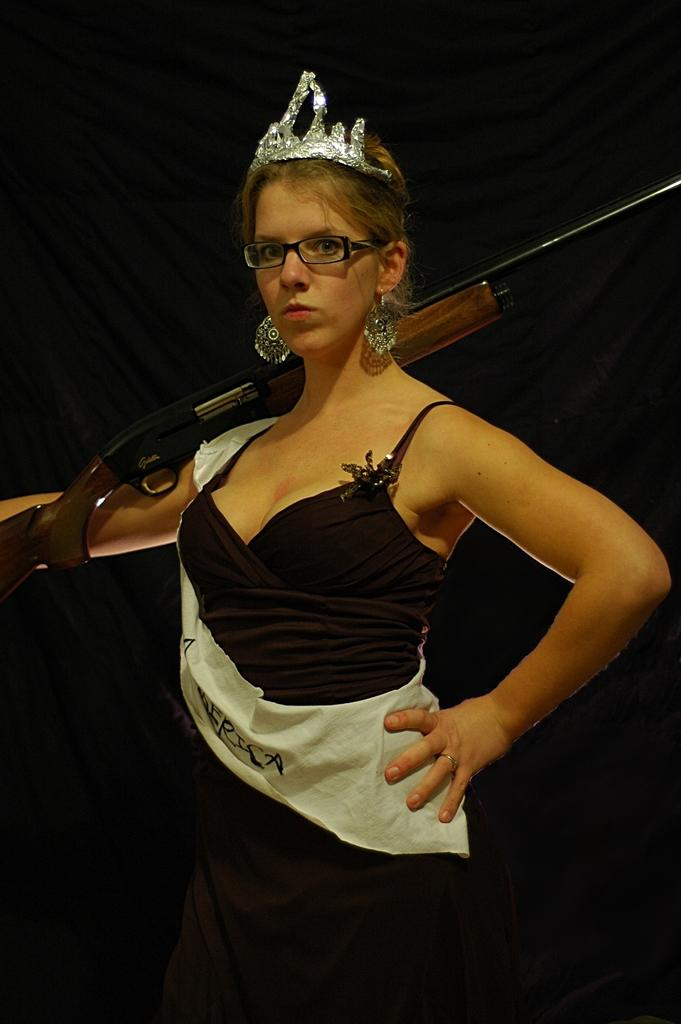Shotgun: (0, 175, 680, 601)
